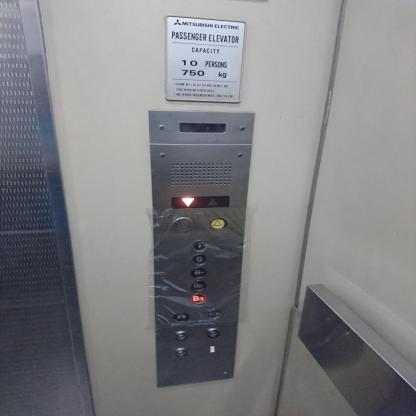1: (191, 238, 209, 252)
B1: (190, 265, 207, 280)
B2: (190, 279, 207, 293)
B3: (189, 292, 207, 307)
G: (191, 252, 208, 267)
alarm: (206, 216, 229, 232)
close: (205, 307, 222, 321)
keyhole: (204, 326, 222, 340), (172, 329, 190, 343), (172, 346, 189, 360)
open: (172, 310, 190, 324)
speaker: (171, 216, 194, 233)
switch: (208, 344, 216, 354)
